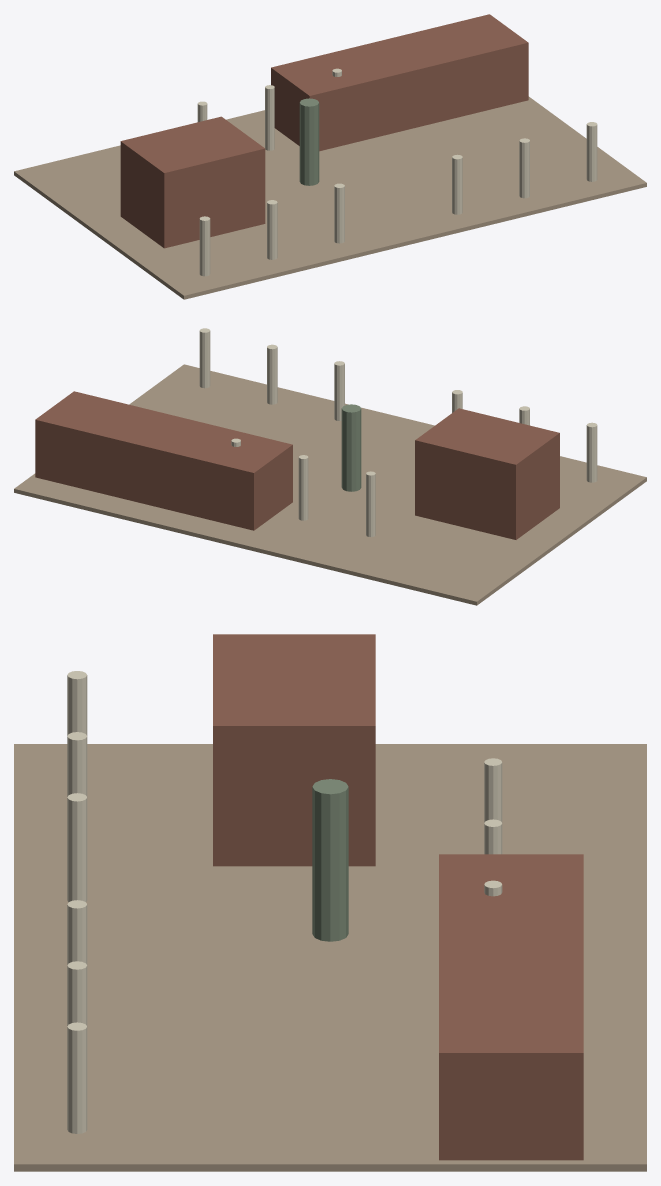
File: forum_civic_hero.glb
3 renders of one model, top to bottom at view 1: azimuth 30°, elevation 25°; view 2: azimuth 150°, elevation 25°; view 3: azimuth 270°, elevation 25°, orthographic. The views are drawn at different scales.
Parts seen in each view (by area): view 1: forum_platform; view 2: forum_platform; view 3: forum_platform.
Boxes of the visible parts, x1=… form: forum_platform: x1=14, y1=14, x2=646, y2=299; forum_platform: x1=14, y1=328, x2=646, y2=605; forum_platform: x1=14, y1=634, x2=646, y2=1171.
Size of the model in its own units: 110 by 19 by 70.
